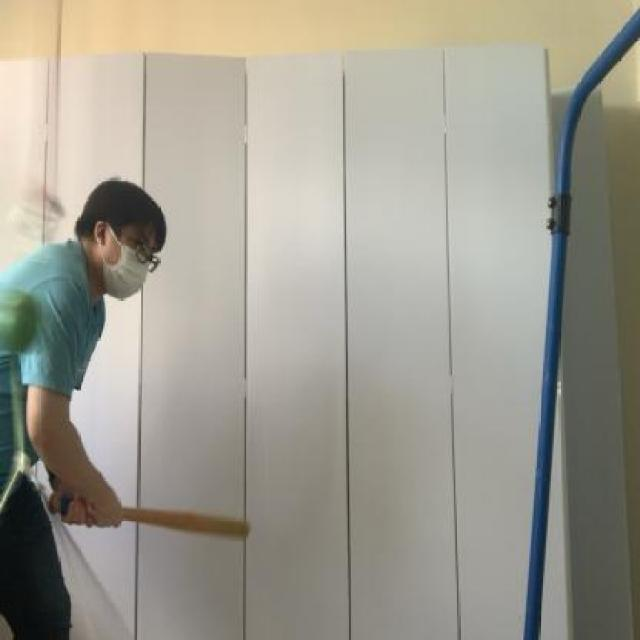baseball: (0, 272, 58, 367)
